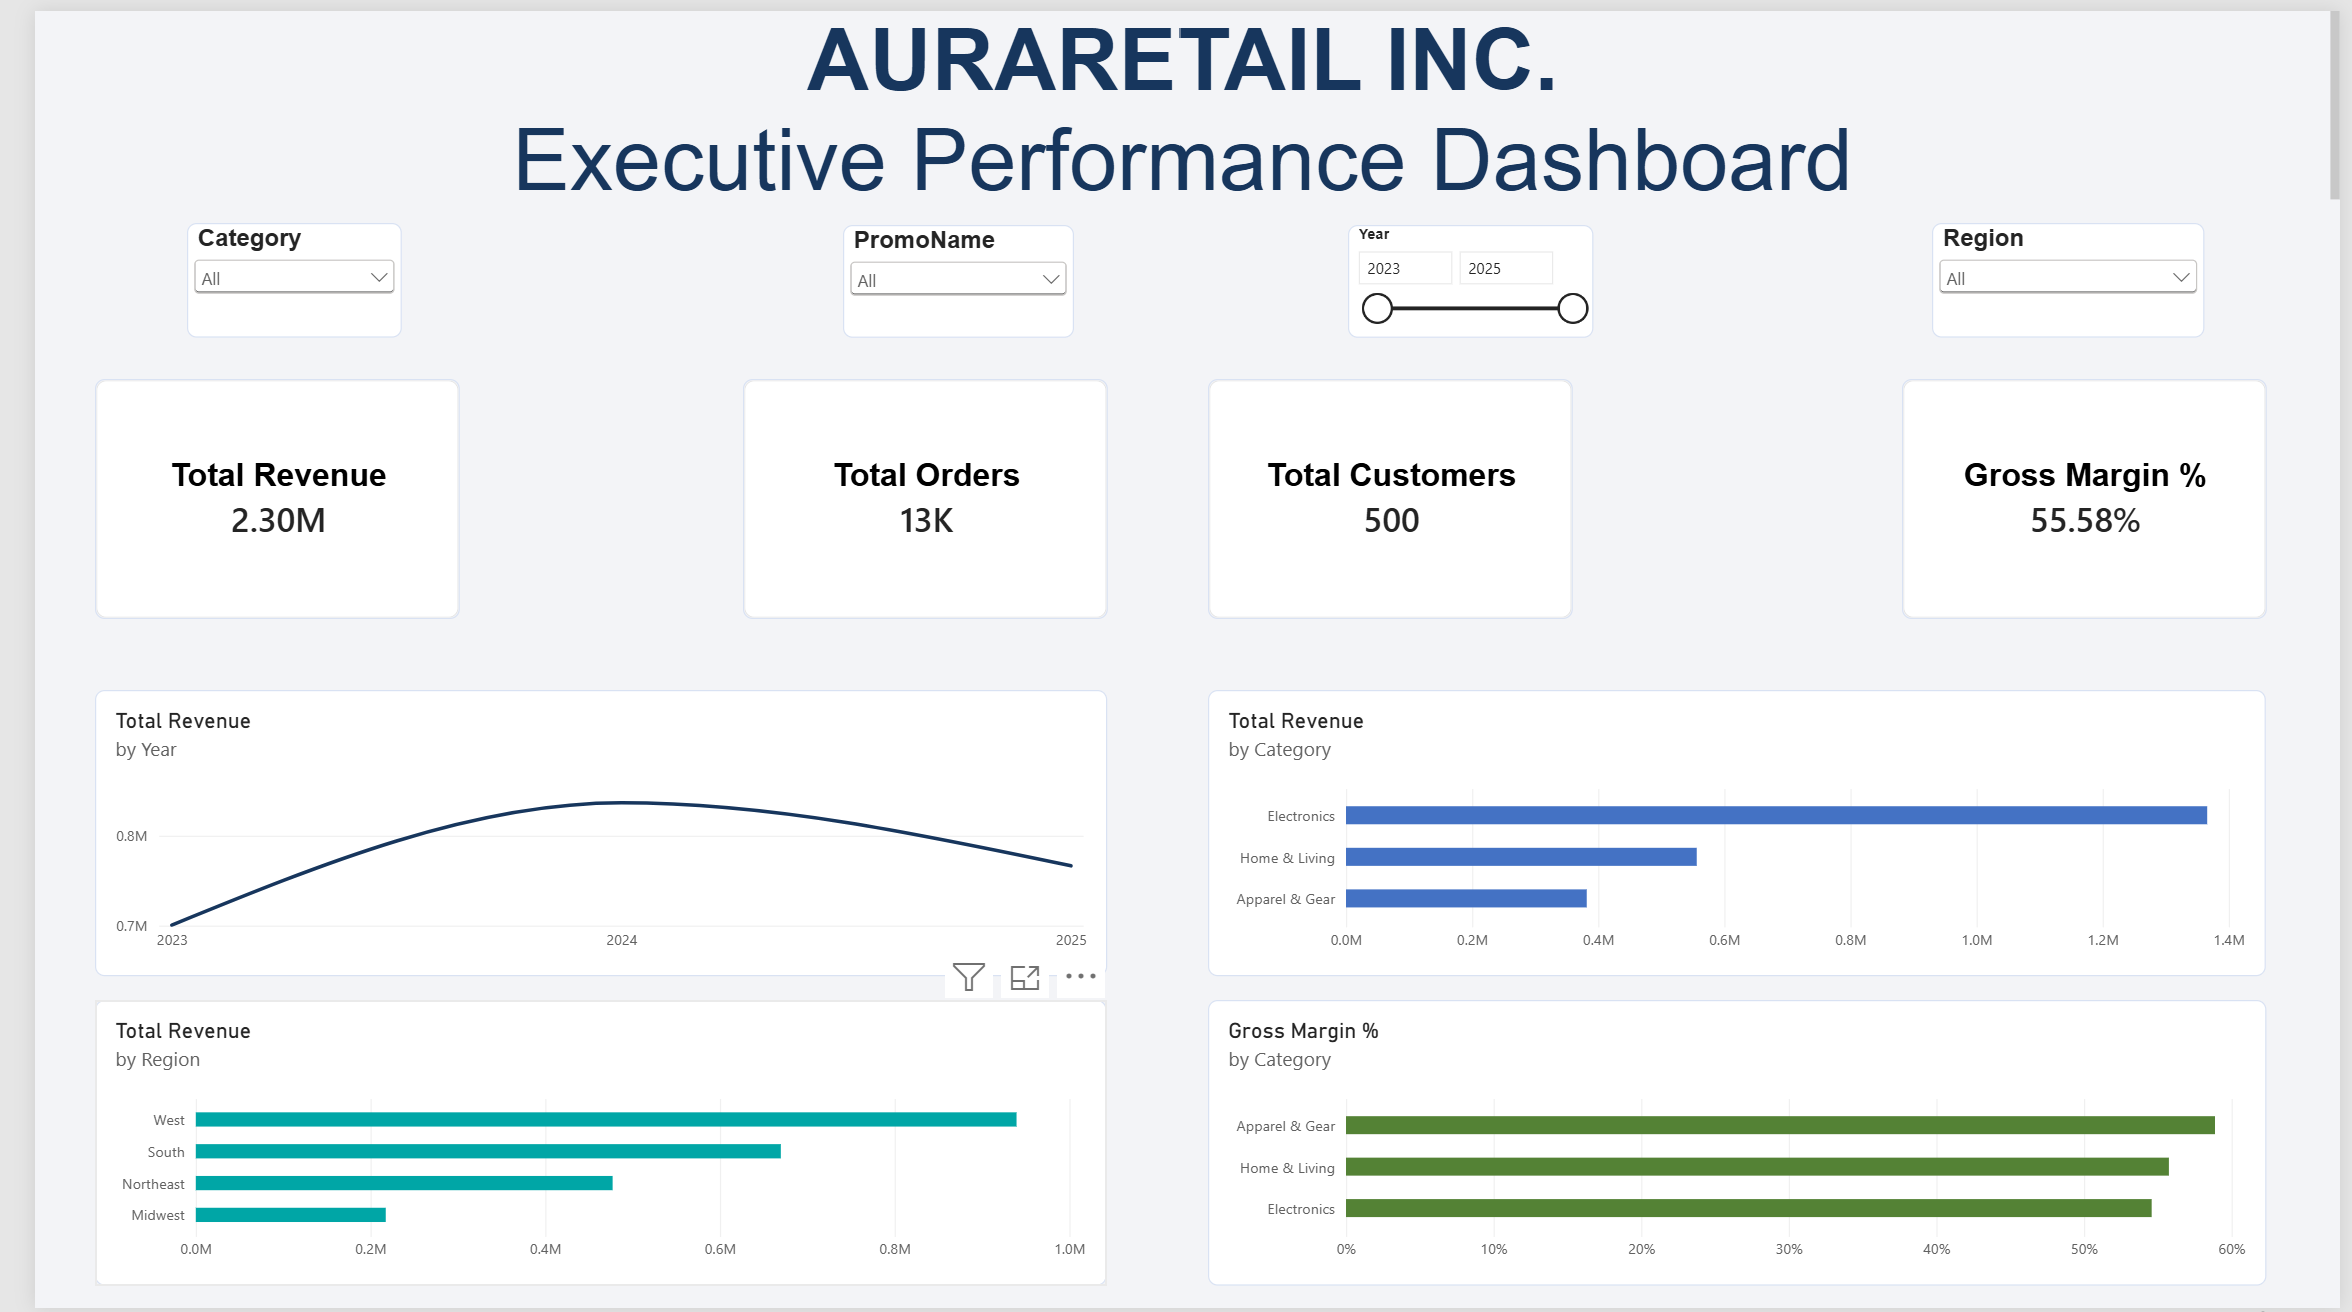

The dashboard page shown, as its layout file describes it:
{"tool":"powerbi","page":{"name":"Executive Dashboard","canvas":[1920,1080],"ordinal":1},"visuals":[{"type":"cardVisual","fields":{"Data":["DAX Calculations.Total Revenue"]},"box":[50.7,307.5,304,200],"z":0},{"type":"cardVisual","fields":{"Data":["DAX Calculations.Total Orders"]},"box":[589.6,307.5,304,200],"z":1},{"type":"cardVisual","fields":{"Data":["DAX Calculations.Total Customers"]},"box":[976.1,307.5,304,200],"z":2},{"type":"cardVisual","fields":{"Data":["DAX Calculations.Gross Margin %"]},"box":[1555.2,307.5,304,200],"z":3},{"type":"textbox","box":[0,0,1920,161.7],"z":4},{"type":"lineChart","fields":{"Category":["ecom_data_dim_date.Year"],"Y":["DAX Calculations.Total Revenue"]},"box":[50.7,564.2,843.3,238.3],"z":5},{"type":"clusteredBarChart","fields":{"Category":["ecom_data_dim_product.Category"],"Y":["DAX Calculations.Total Revenue"]},"box":[976.1,564.2,881.7,238.3],"z":6},{"type":"clusteredBarChart","fields":{"Category":["ecom_data_dim_geography.Region"],"Y":["DAX Calculations.Total Revenue"]},"box":[50.7,823.9,843,238],"z":7},{"type":"clusteredBarChart","fields":{"Category":["ecom_data_dim_product.Category"],"Y":["DAX Calculations.Gross Margin %"]},"box":[976.1,823.9,882,238],"z":8},{"type":"slicer","fields":{"Values":["ecom_data_dim_product.Category"]},"box":[126.9,176.1,179.1,95.5],"z":10},{"type":"slicer","fields":{"Values":["ecom_data_dim_geography.Region"]},"box":[1580.6,176.1,226.9,95.5],"z":11},{"type":"slicer","fields":{"Values":["ecom_data_dim_promotion.PromoName"]},"box":[673.1,177.6,192.5,94],"z":12},{"type":"slicer","fields":{"Values":["ecom_data_dim_date.Year"]},"box":[1094,177.6,204.5,94],"z":13}]}

Visuals, with their boxes in screenshot pixels (x1, y1, x2, y2), scaled from the page's 1920x1080 canvas onto the 2352x1312 screenshot:
cardVisual - DAX Calculations.Total Revenue: [x1=62, y1=374, x2=435, y2=617]
cardVisual - DAX Calculations.Total Orders: [x1=722, y1=374, x2=1095, y2=617]
cardVisual - DAX Calculations.Total Customers: [x1=1196, y1=374, x2=1568, y2=617]
cardVisual - DAX Calculations.Gross Margin %: [x1=1905, y1=374, x2=2278, y2=617]
textbox: [x1=0, y1=0, x2=2351, y2=196]
lineChart - ecom_data_dim_date.Year x DAX Calculations.Total Revenue: [x1=62, y1=685, x2=1095, y2=975]
clusteredBarChart - ecom_data_dim_product.Category x DAX Calculations.Total Revenue: [x1=1196, y1=685, x2=2276, y2=975]
clusteredBarChart - ecom_data_dim_geography.Region x DAX Calculations.Total Revenue: [x1=62, y1=1001, x2=1095, y2=1290]
clusteredBarChart - ecom_data_dim_product.Category x DAX Calculations.Gross Margin %: [x1=1196, y1=1001, x2=2276, y2=1290]
slicer - ecom_data_dim_product.Category: [x1=155, y1=214, x2=375, y2=330]
slicer - ecom_data_dim_geography.Region: [x1=1936, y1=214, x2=2214, y2=330]
slicer - ecom_data_dim_promotion.PromoName: [x1=825, y1=216, x2=1060, y2=330]
slicer - ecom_data_dim_date.Year: [x1=1340, y1=216, x2=1591, y2=330]
